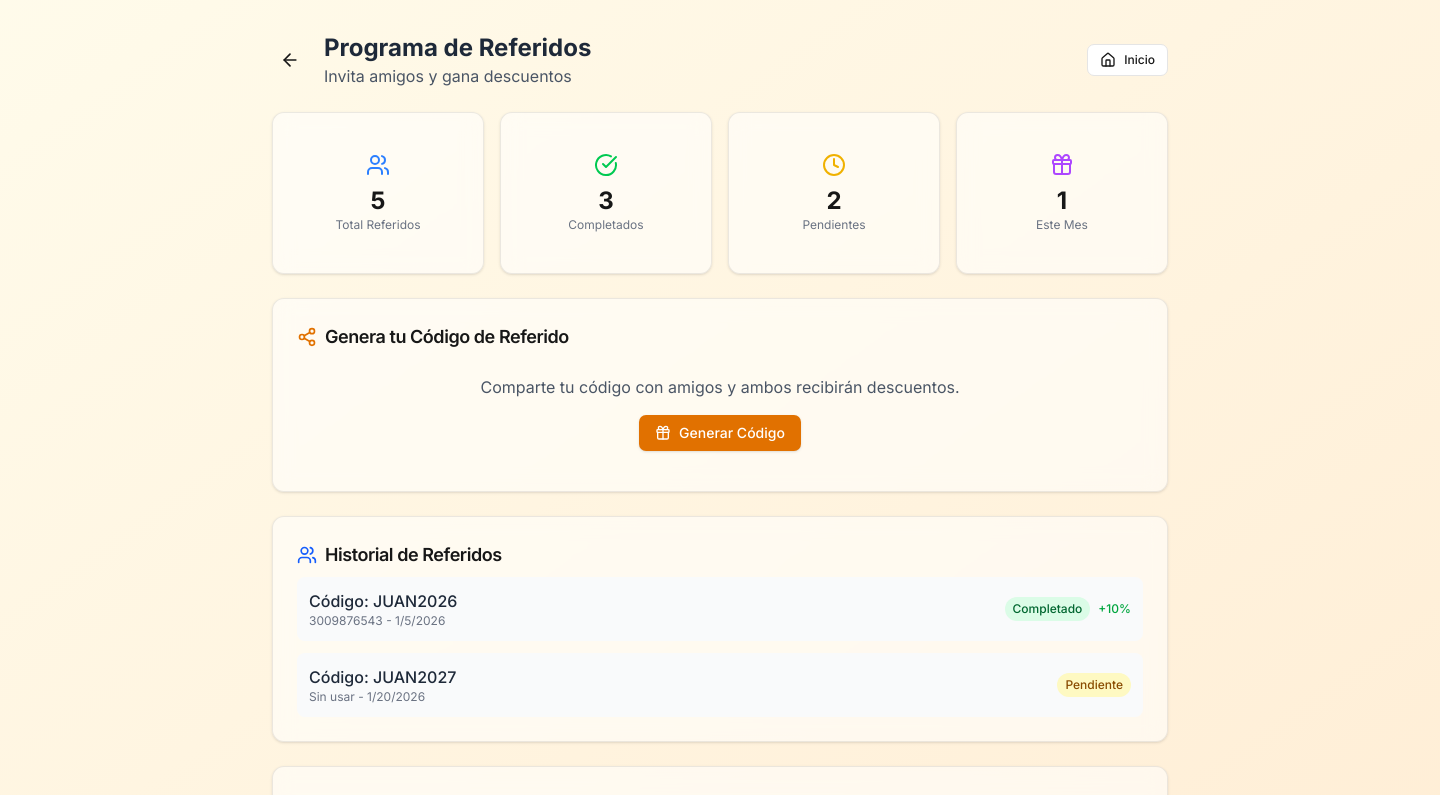
Test: ReferidosPage › Share Functionality › should show copied state after copying
Click the button "Generar Código" at coordinates (720, 433), box left=639, top=415, right=801, bottom=451
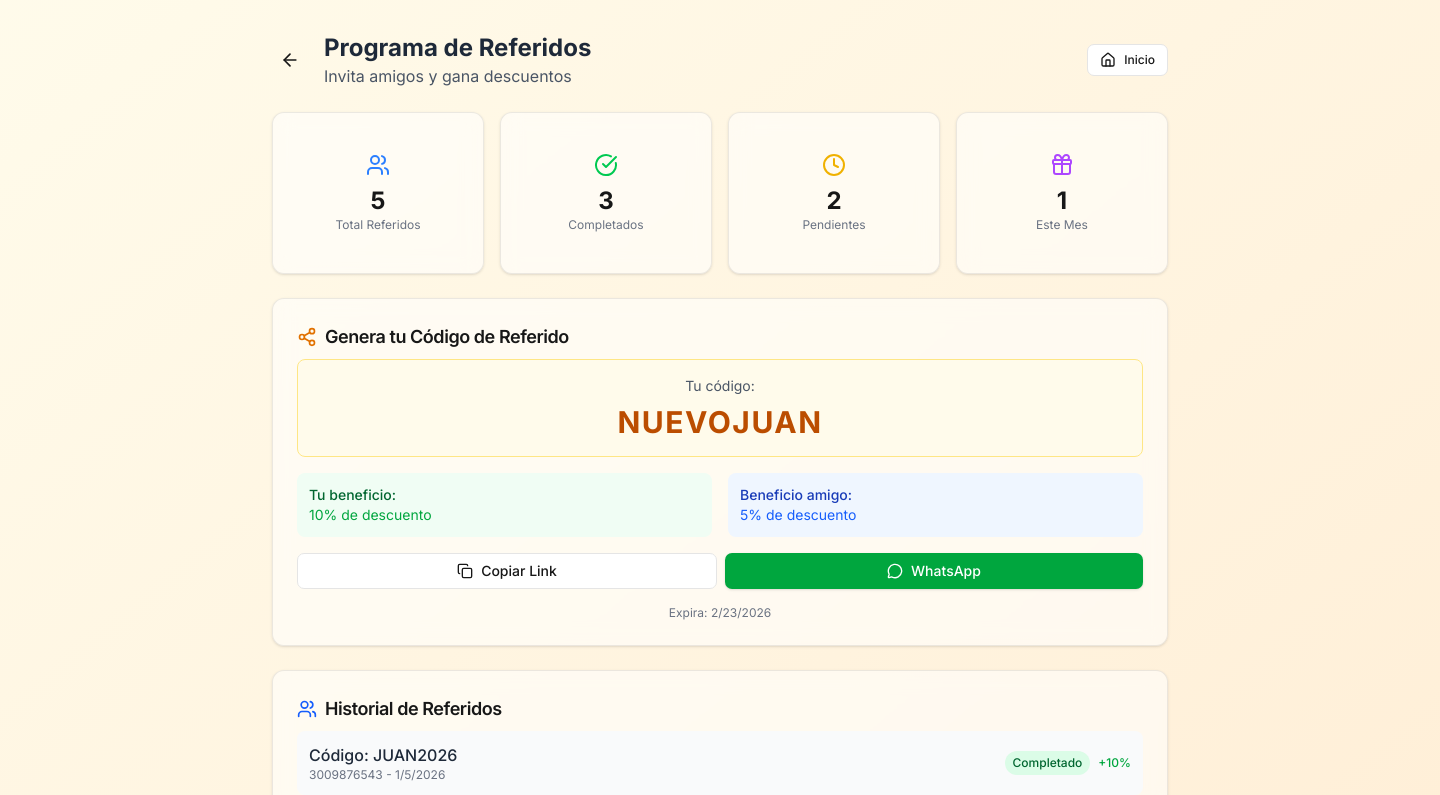
Expected: the button "Copiar Link" is shown
Click the button "Copiar Link" at coordinates (507, 571), box left=297, top=553, right=717, bottom=589
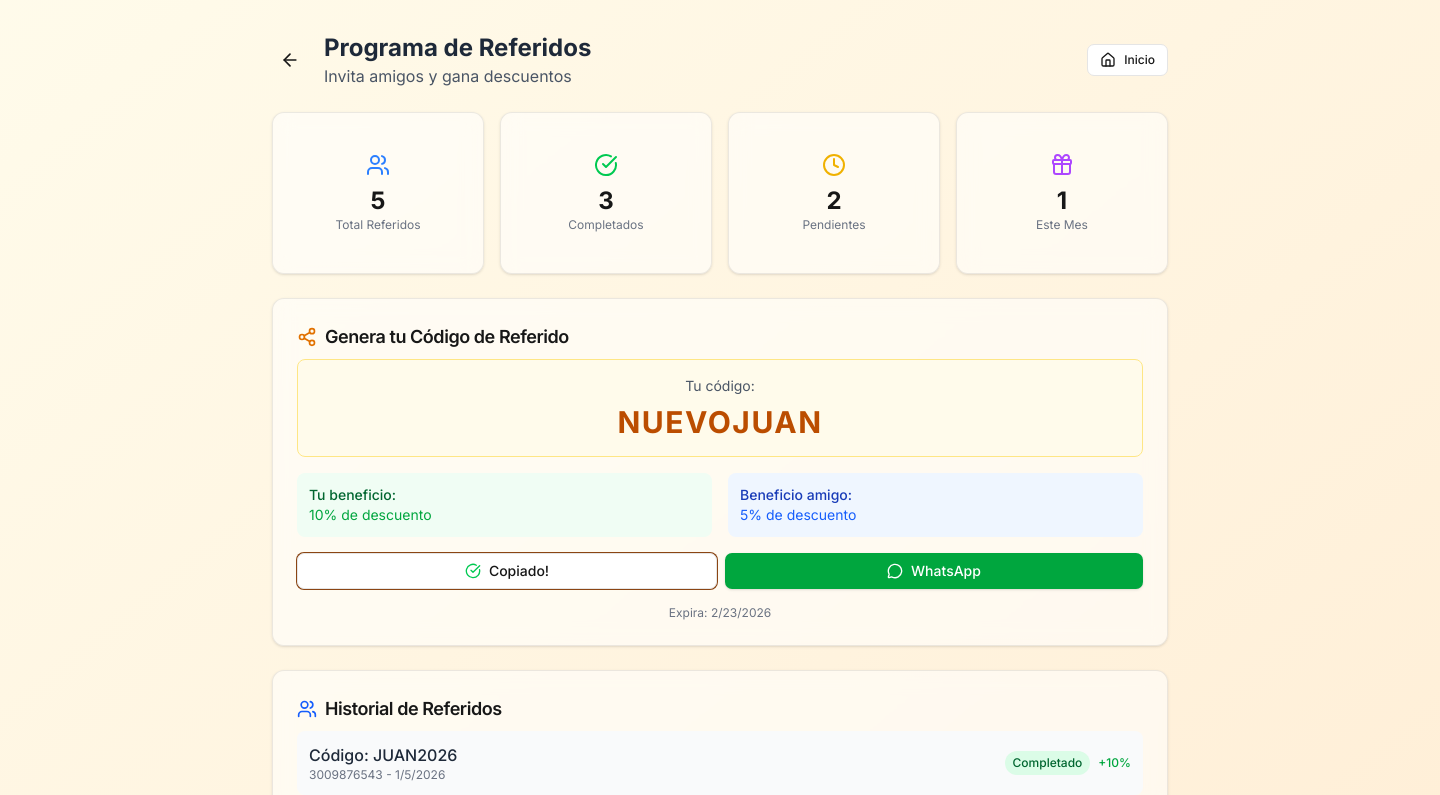
Expected: the button "Copiado!" is shown, left=297, top=553, right=717, bottom=589
